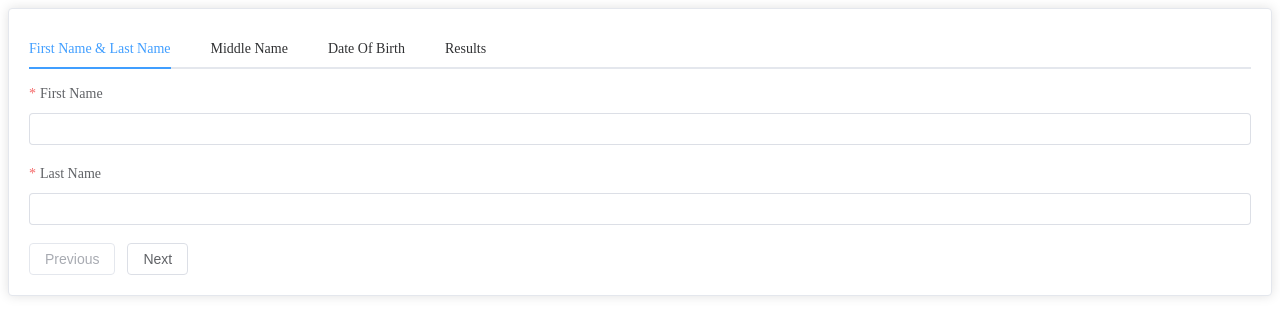
Test case: FormStepper › validates first step
Check: the text with id "next-btn" reads "Next", box left=143, top=251, right=172, bottom=267
Click the button with id "next-btn". click: (159, 259)
box: left=128, top=243, right=189, bottom=275
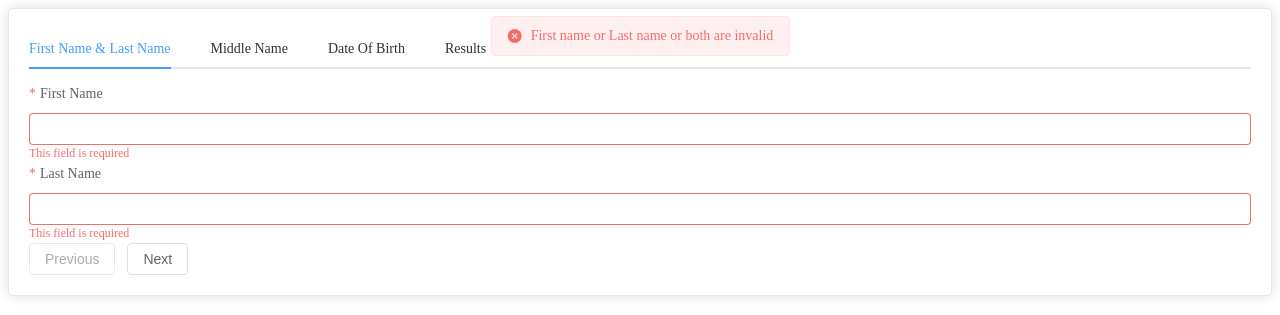
Check: the 1st text "This field is required" is shown, box left=29, top=145, right=129, bottom=159
Check: the text "First name or Last name or both are invalid" is shown, box left=531, top=29, right=773, bottom=43
